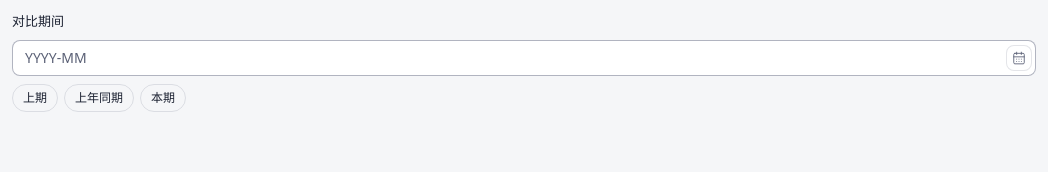
Scenario: financial web controls › keeps accounting periods as YYYY-MM and supports base-period shortcuts
Expected: the element named "对比期间" is shown, x1=12 y1=40 x2=1036 y2=76
Expected: the element named "对比期间设为实际期间上期" is shown, x1=12 y1=84 x2=186 y2=112
Click the button with aria-label "对比期间设为实际期间上期".
click(35, 98)  # box x1=12 y1=84 x2=58 y2=112
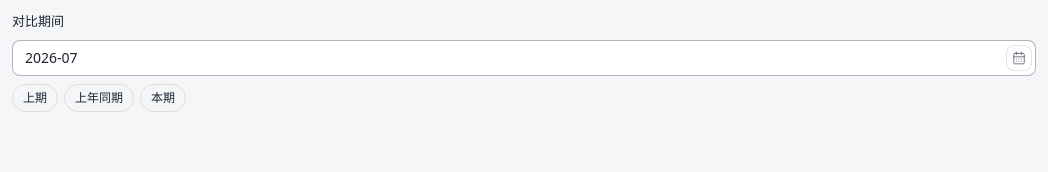
Click the button with aria-label "对比期间设为实际期间上年同期".
click(99, 98)  # box x1=64 y1=84 x2=134 y2=112
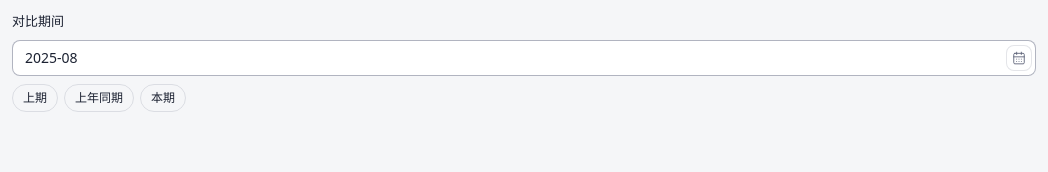
Replace the text in the field labelled "对比期间" with "2026-13" at (524, 58), box x1=12 y1=40 x2=1036 y2=76
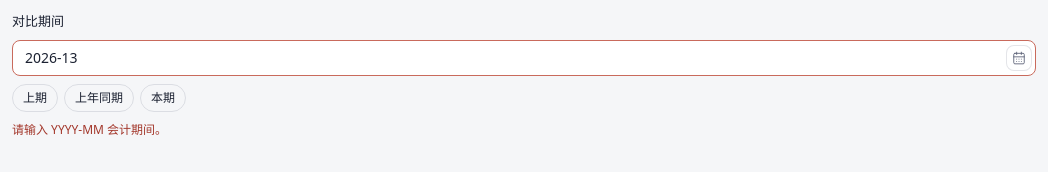
Now the text "请输入 YYYY-MM 会计期间。" is shown, box x1=12 y1=120 x2=167 y2=138
